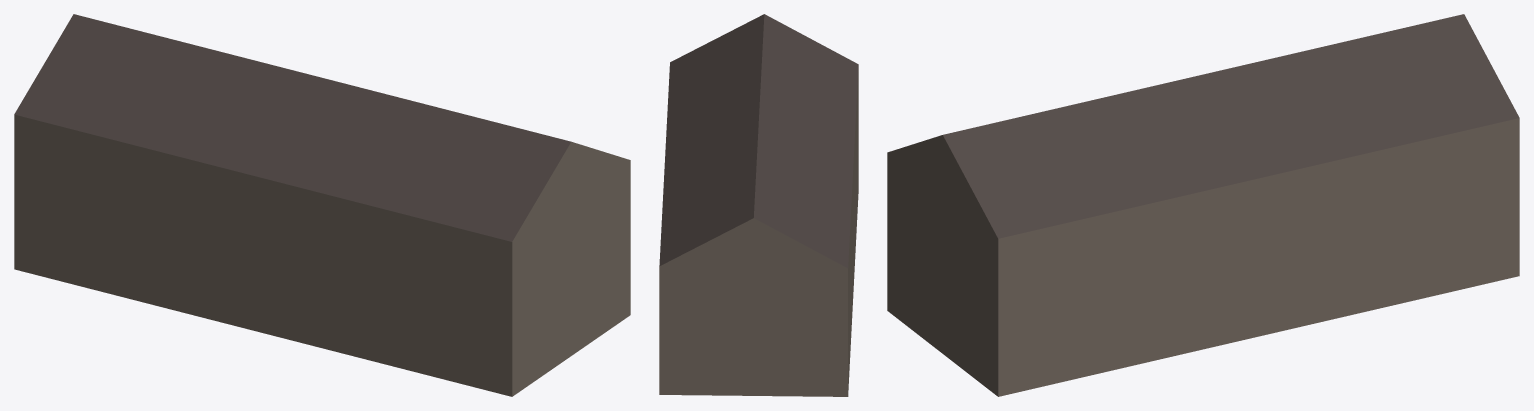
3 renders of one model, left to right at view 1: azimuth 30°, elevation 25°; view 2: azimuth 150°, elevation 25°; view 3: azimuth 270°, elevation 25°, orthographic. The views are drawn at different scales.
Parts seen in each view (by area): view 1: HP-w859088509; view 2: HP-w859088509; view 3: HP-w859088509.
Part boxes in pixels (x1=…): HP-w859088509: x1=14, y1=14, x2=630, y2=396; HP-w859088509: x1=659, y1=14, x2=858, y2=396; HP-w859088509: x1=887, y1=14, x2=1519, y2=396.
Bounding box in the file's own units: 16.86 × 8.31 × 21.74.
